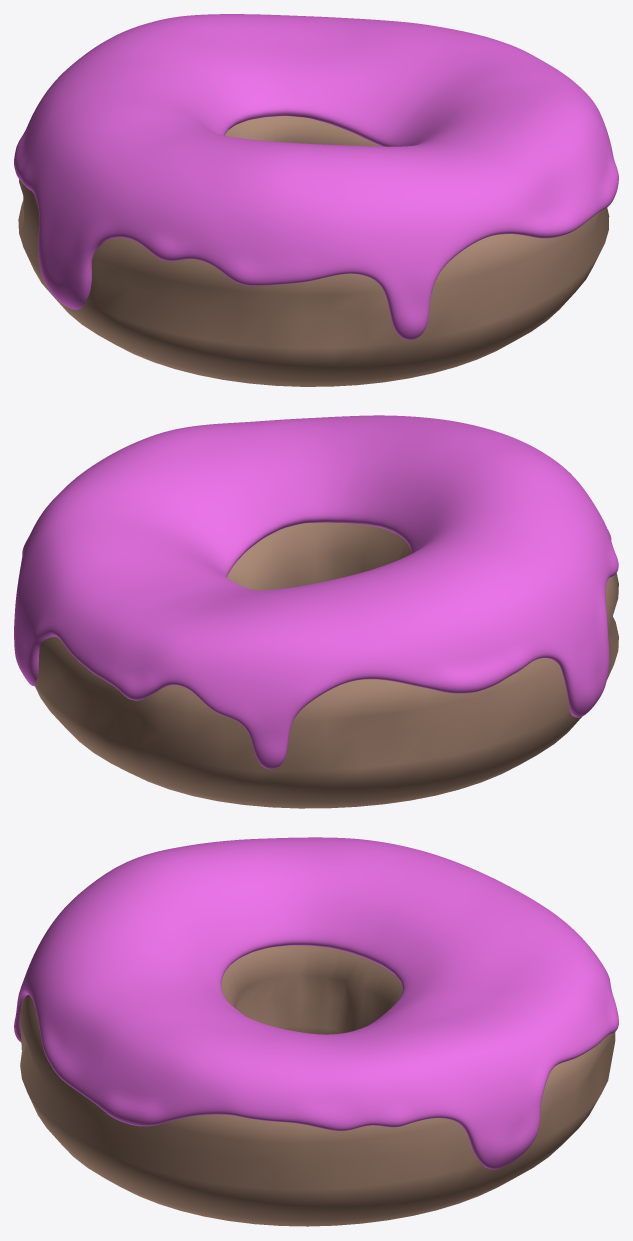
Rendered from donut.glb.
3 views of the same model, one above another, from view 1: azimuth 30°, elevation 25°; view 2: azimuth 150°, elevation 25°; view 3: azimuth 270°, elevation 25° (orthographic). The views are drawn at different scales.
Parts seen in each view (by area): view 1: Frosting, Donut; view 2: Frosting, Donut; view 3: Frosting, Donut.
Part boxes in pixels (x1,y1,x2,y2): Frosting: (14, 14, 618, 339); Donut: (18, 116, 609, 386); Frosting: (14, 415, 618, 769); Donut: (35, 522, 618, 808); Frosting: (14, 837, 618, 1169); Donut: (20, 945, 615, 1226).
Size of what is drawn, in the model's own units: 0.3183 by 0.1306 by 0.3221.
